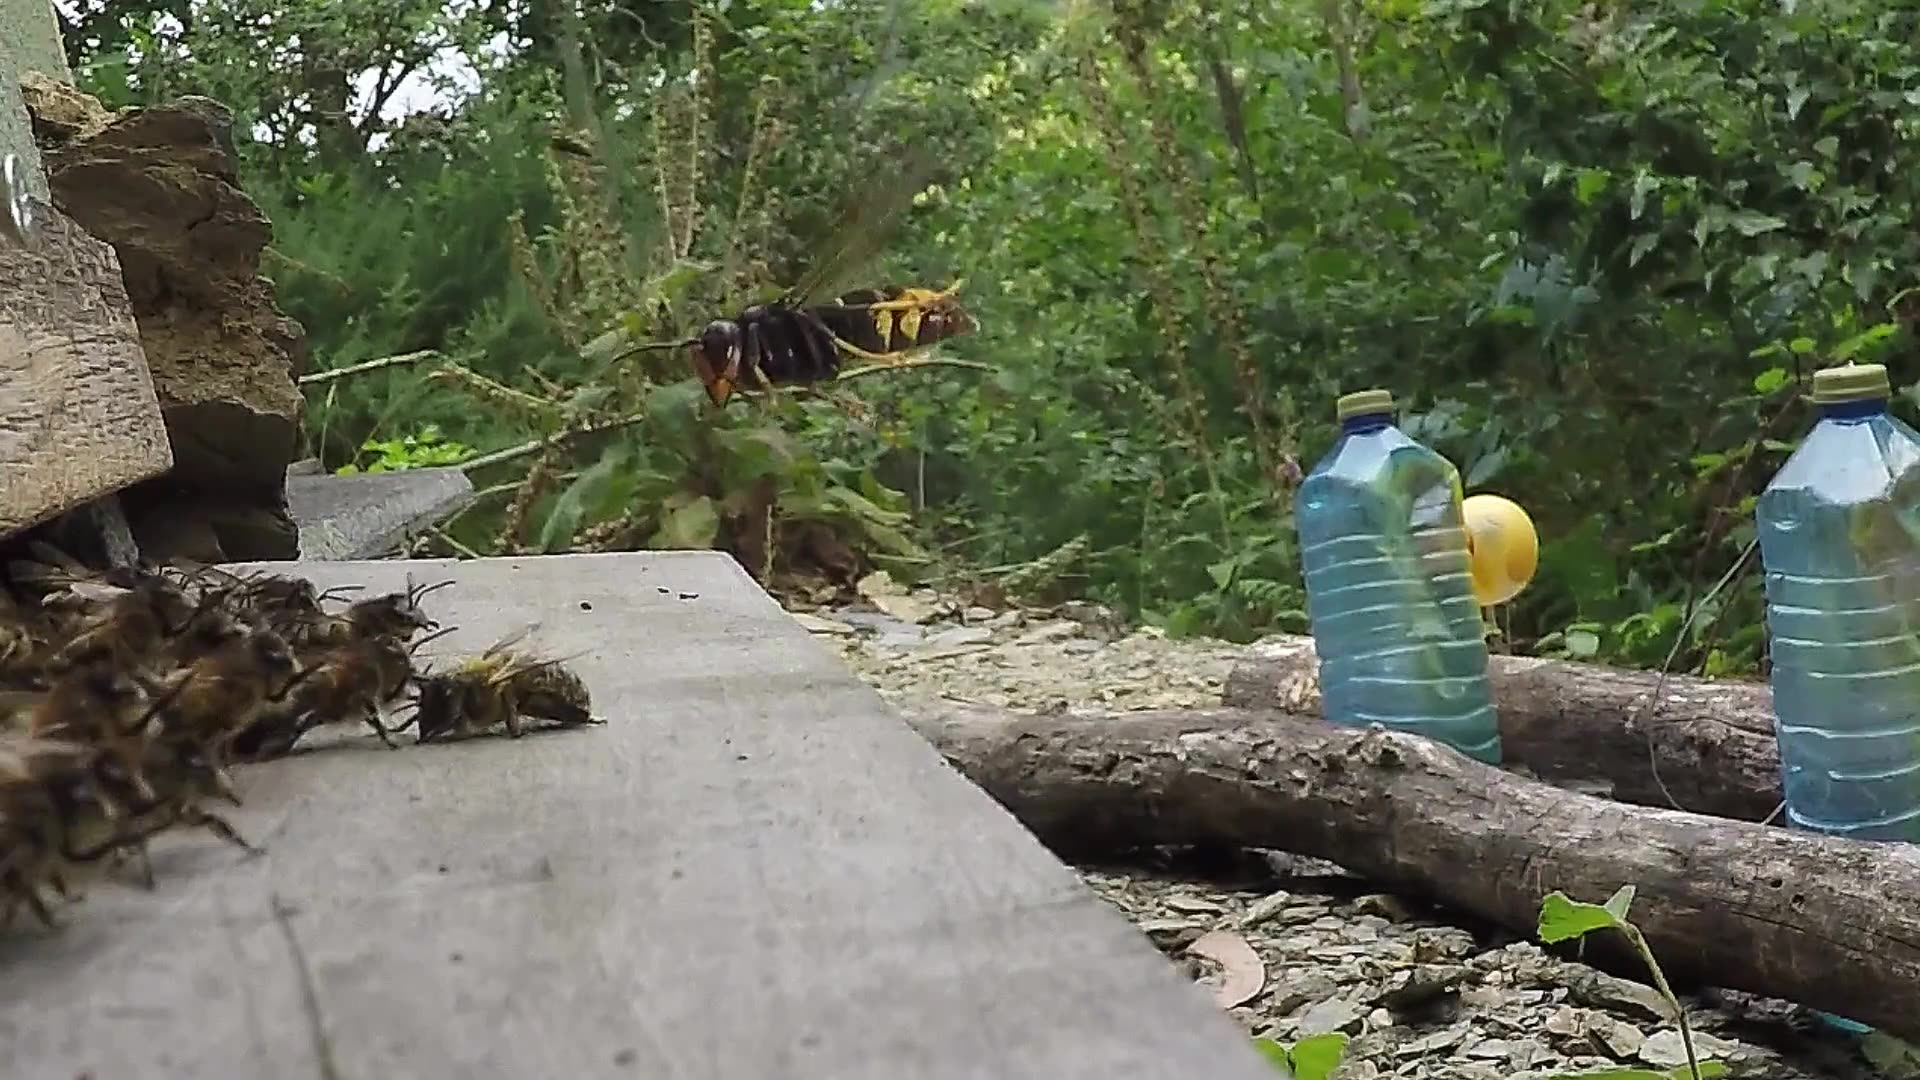bee: (1, 558, 427, 934), (407, 634, 605, 749)
hornet: (683, 280, 1007, 419)
